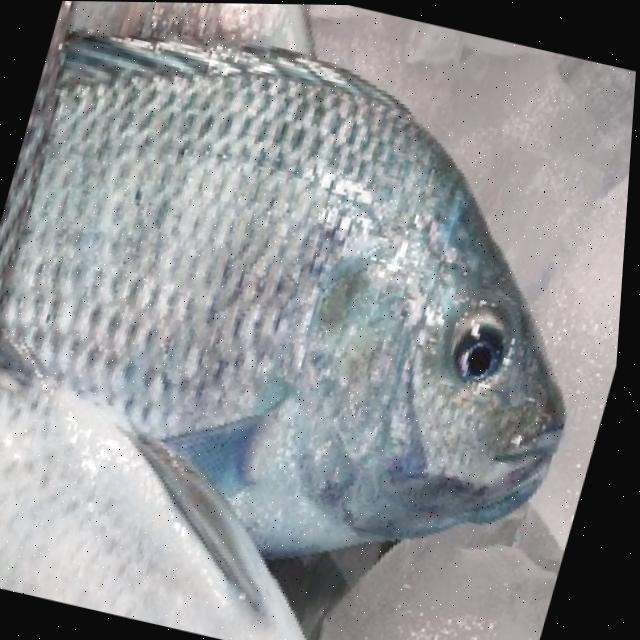Fresh: (11, 45, 510, 538), (429, 287, 534, 402)
